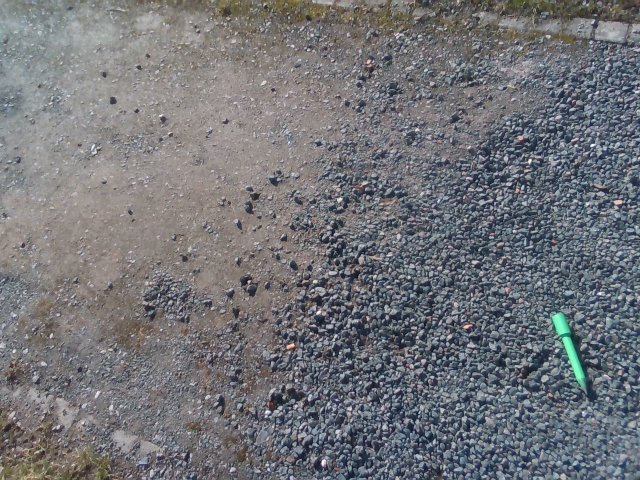Probe: (549, 309, 592, 401)
